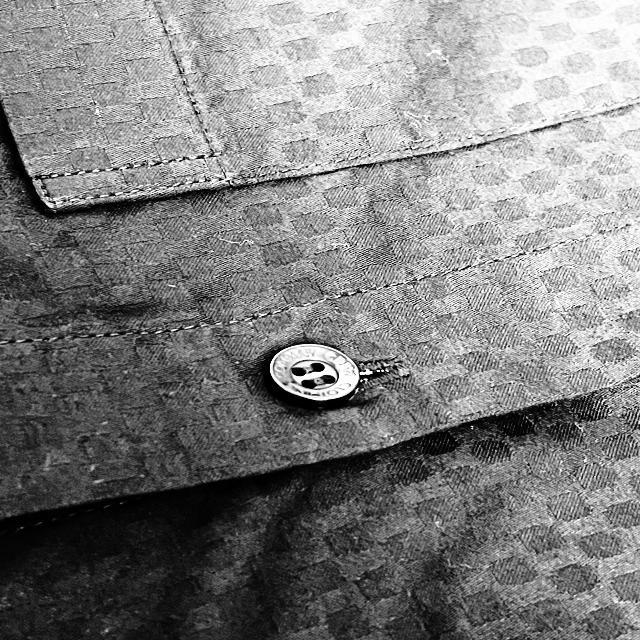Button_hike: (265, 335, 407, 410)
